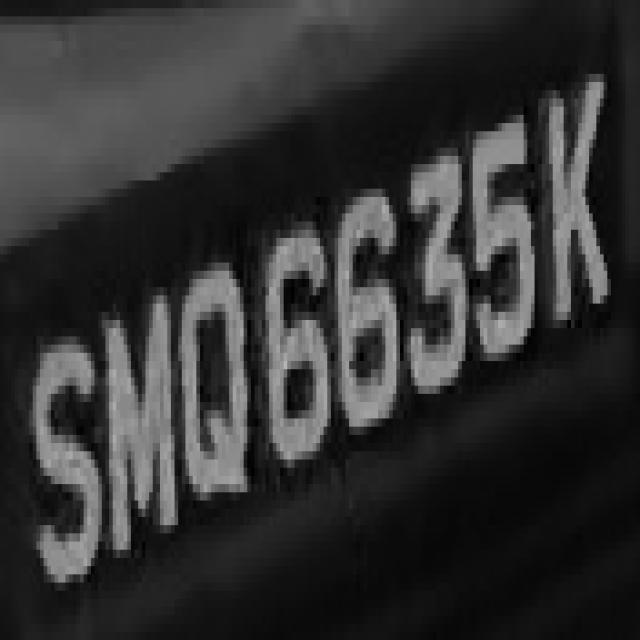3: (396, 115, 473, 402)
5: (466, 107, 534, 402)
6: (269, 189, 335, 484), (338, 172, 400, 452)
K: (538, 41, 615, 345)
M: (102, 271, 174, 566)
Q: (167, 246, 262, 525)
S: (22, 304, 102, 616)
